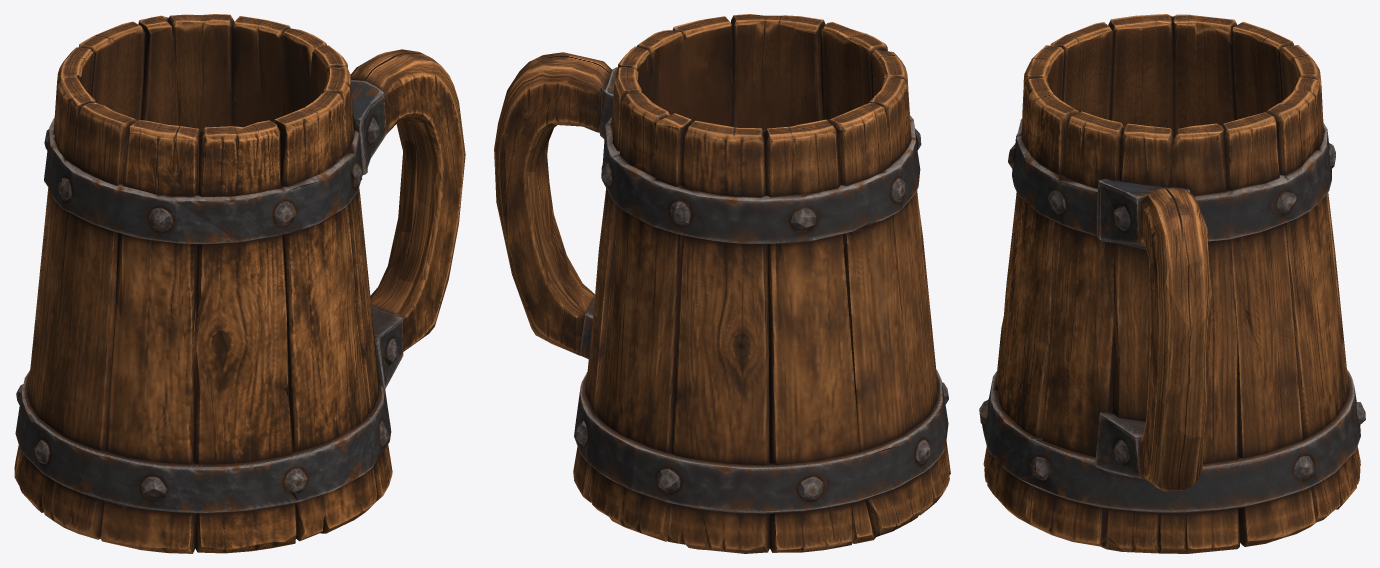
The model's file is tankard.glb.
3 renders of one model, left to right at view 1: azimuth 30°, elevation 25°; view 2: azimuth 150°, elevation 25°; view 3: azimuth 270°, elevation 25°, orthographic.
Size of the model in its own units: 1.9 by 1.72 by 1.49.
Materials: 1 (1 with a texture image).
